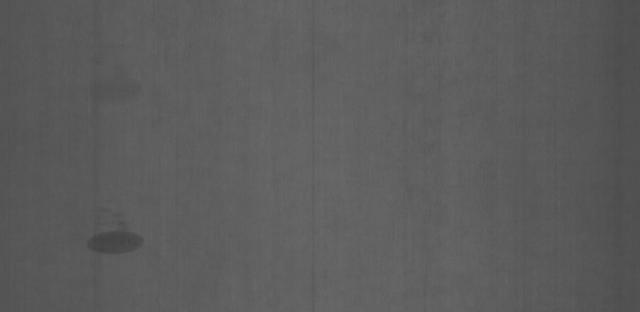oil_spot: (70, 215, 154, 264)
